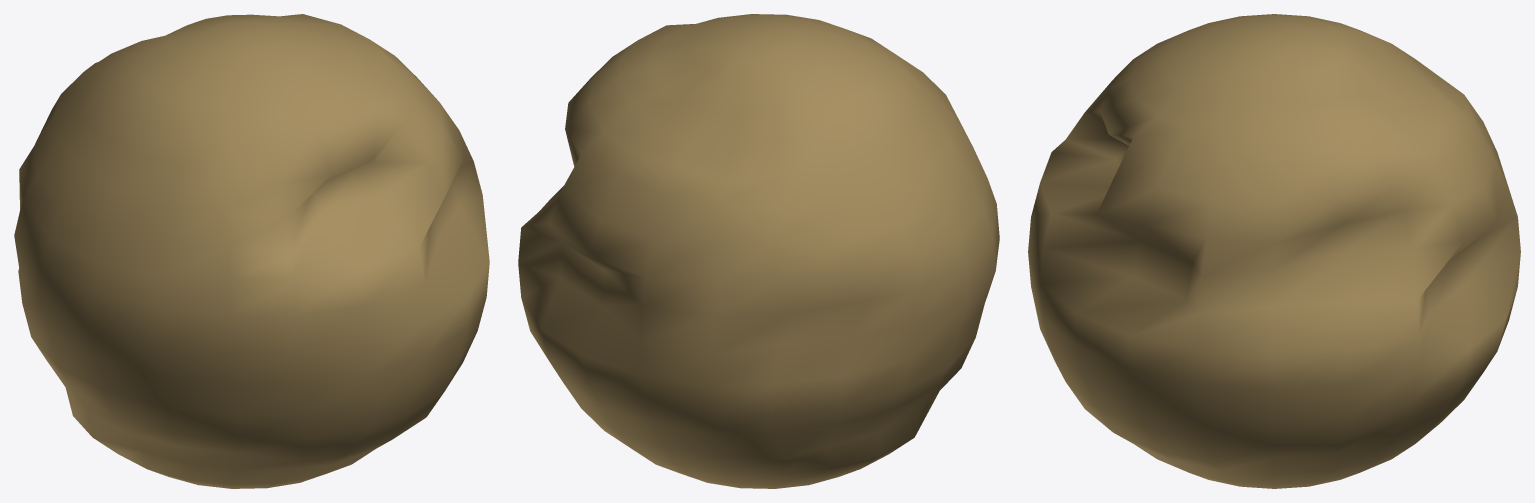
File: Rock.fbx
The picture shows the model from 3 angles, left to right: view 1: azimuth 30°, elevation 25°; view 2: azimuth 150°, elevation 25°; view 3: azimuth 270°, elevation 25°; orthographic projection.
Visible parts, largest first — view 1: pSphere1; view 2: pSphere1; view 3: pSphere1.
Boxes of the visible parts, x1=… form: pSphere1: x1=14, y1=14, x2=489, y2=488; pSphere1: x1=518, y1=14, x2=999, y2=488; pSphere1: x1=1028, y1=14, x2=1520, y2=488.
Size of the model in its own units: 1.96 by 1.92 by 2.
